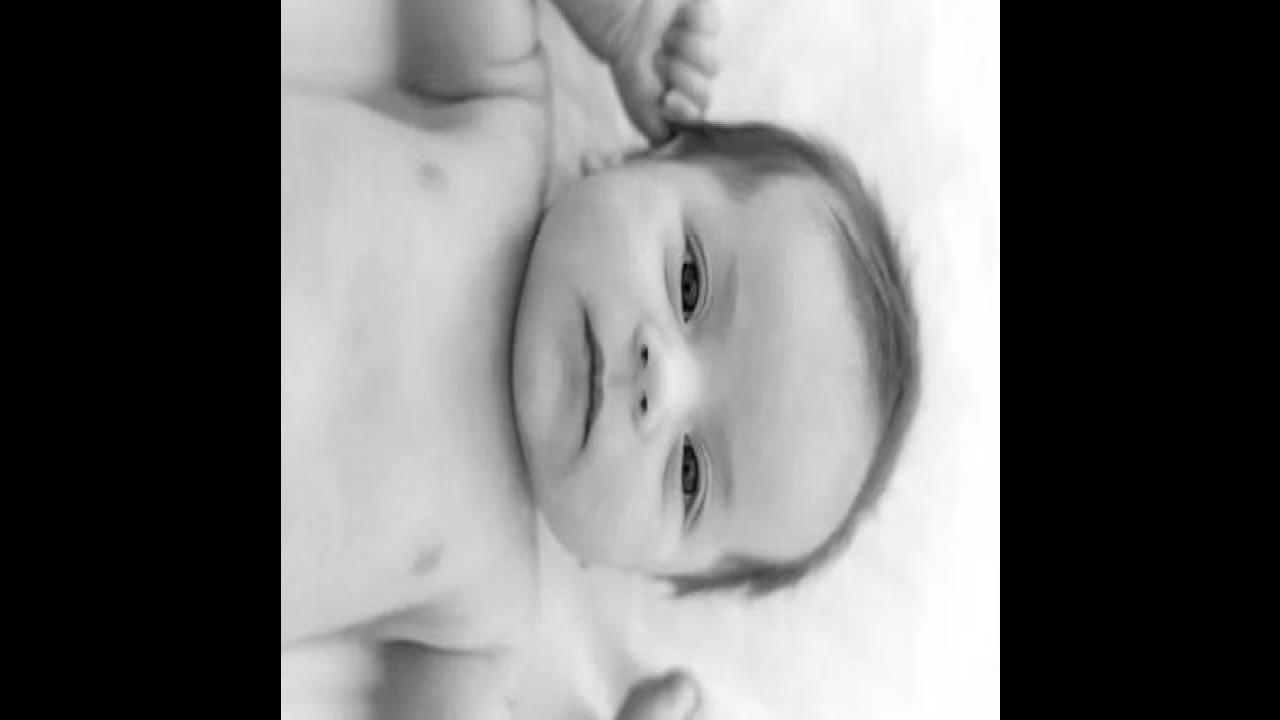hand: (624, 0, 720, 149), (618, 673, 709, 720)
